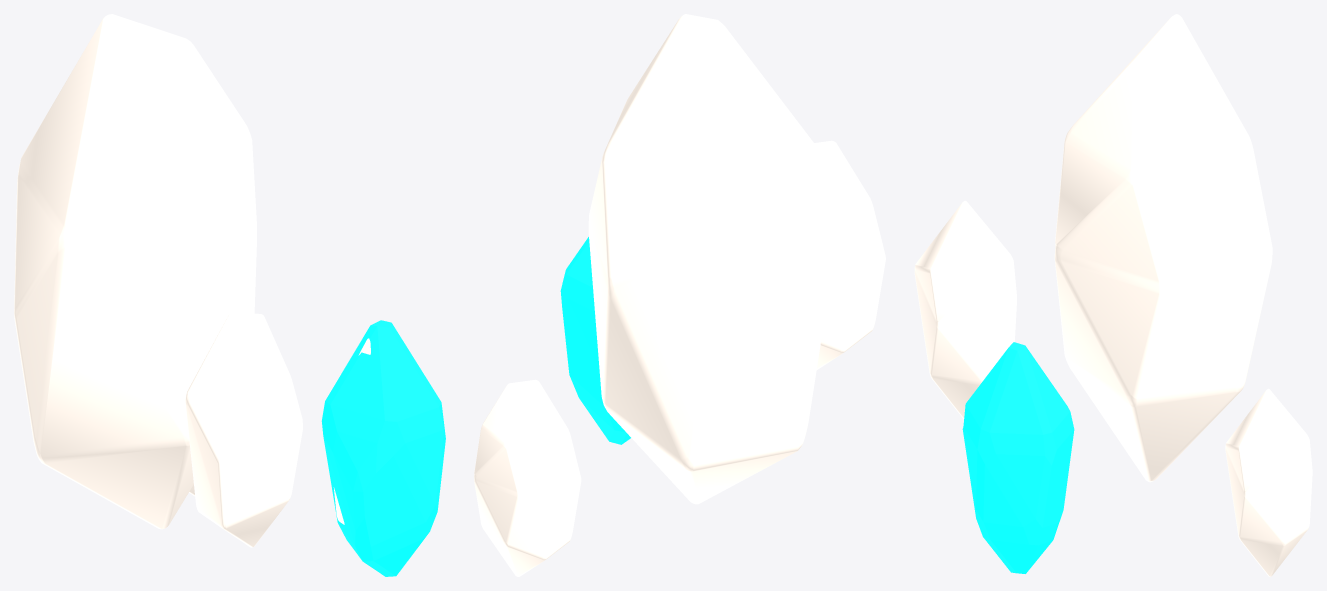
The model's file is altar_crsytals.fbx.
The picture shows the model from 3 angles, left to right: view 1: azimuth 30°, elevation 25°; view 2: azimuth 150°, elevation 25°; view 3: azimuth 270°, elevation 25°; orthographic projection. The views are drawn at different scales.
Visible parts, largest first — view 1: Icosphere, Icosphere.007, Icosphere.004; view 2: Icosphere, Icosphere.002, Icosphere.004, Icosphere.007; view 3: Icosphere, Icosphere.007, Icosphere.004, Icosphere.002.
Part boxes in pixels (<box>): Icosphere: <box>14,14,256,529</box>; Icosphere.007: <box>321,320,445,576</box>; Icosphere.004: <box>185,312,302,547</box>; Icosphere: <box>588,14,838,504</box>; Icosphere.002: <box>474,379,581,576</box>; Icosphere.004: <box>814,140,885,369</box>; Icosphere.007: <box>560,237,630,444</box>; Icosphere: <box>1054,14,1272,482</box>; Icosphere.007: <box>962,342,1074,573</box>; Icosphere.004: <box>914,200,1016,419</box>; Icosphere.002: <box>1225,388,1312,576</box>.
Bounding box in the file's own units: 121 × 194 × 141.
